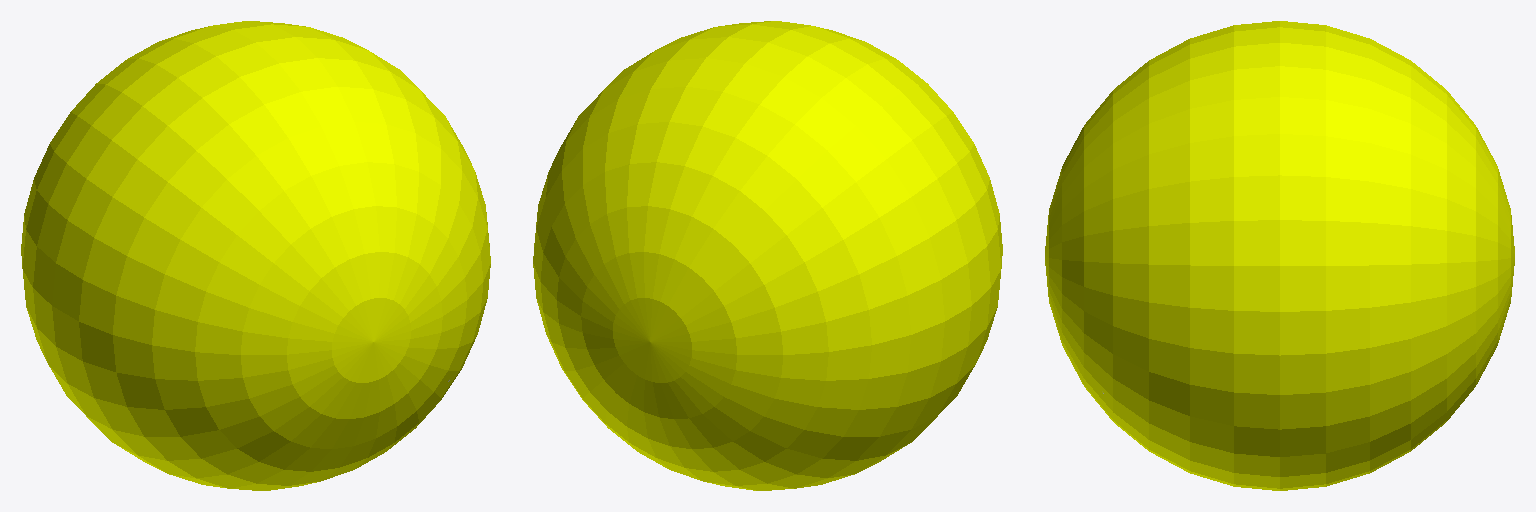
3 views of the same model, side by side, from view 1: azimuth 30°, elevation 25°; view 2: azimuth 150°, elevation 25°; view 3: azimuth 270°, elevation 25° (orthographic).
Visible parts, largest first — view 1: 球; view 2: 球; view 3: 球.
Part boxes in pixels (bbox=[...]): 球: bbox=[21, 21, 490, 490]; 球: bbox=[533, 21, 1002, 490]; 球: bbox=[1045, 21, 1514, 490].
Size of the model in its own units: 1 by 1 by 1.
Materials: 1 (1 with a texture image).